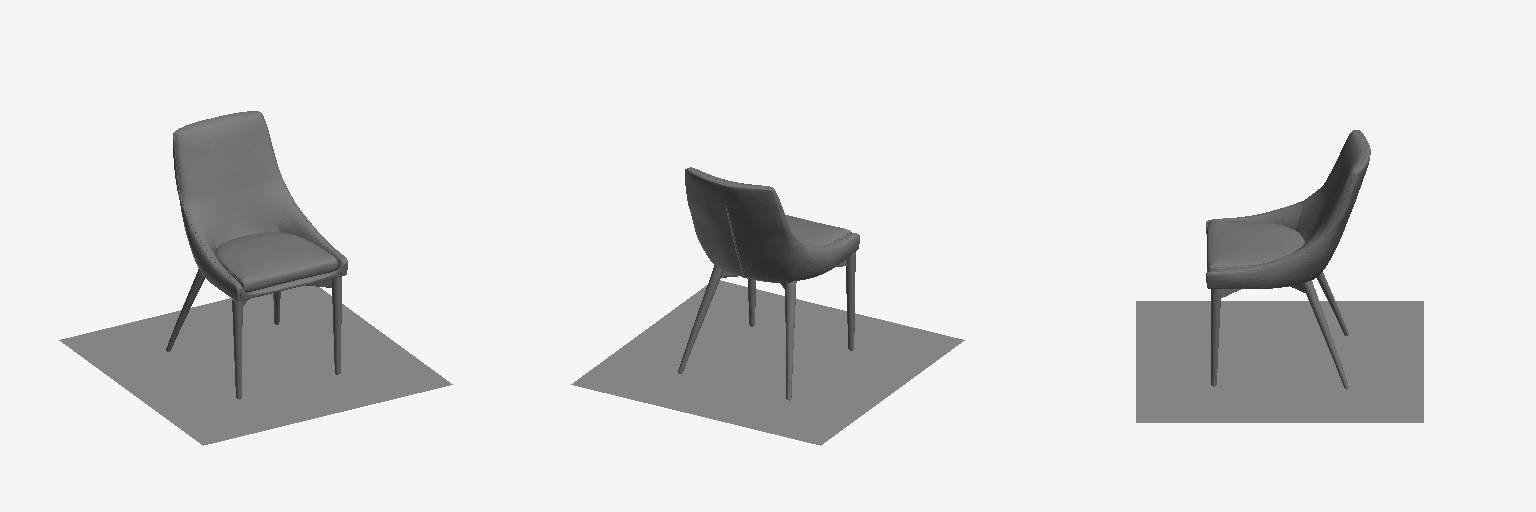
The model's file is MCRW5804.obj.
The picture shows the model from 3 angles: view 1: azimuth 30°, elevation 25°; view 2: azimuth 150°, elevation 25°; view 3: azimuth 270°, elevation 25°; orthographic projection.
Parts seen in each view (by area): view 1: shadow_plane_v6, not_clear_obj_2_v6, not_clear_obj_1_v6; view 2: shadow_plane_v6, not_clear_obj_2_v6, not_clear_obj_1_v6; view 3: shadow_plane_v6, not_clear_obj_2_v6, not_clear_obj_1_v6.
Boxes of the visible parts, <box> form: shadow_plane_v6: <box>59,285,452,445</box>; not_clear_obj_2_v6: <box>173,111,347,301</box>; not_clear_obj_1_v6: <box>166,269,341,399</box>; shadow_plane_v6: <box>571,280,964,445</box>; not_clear_obj_2_v6: <box>685,167,859,282</box>; not_clear_obj_1_v6: <box>678,252,855,400</box>; shadow_plane_v6: <box>1136,301,1423,422</box>; not_clear_obj_2_v6: <box>1206,130,1370,288</box>; not_clear_obj_1_v6: <box>1211,272,1348,388</box>.
Size of the model in its own units: 107 by 86.76 by 107.